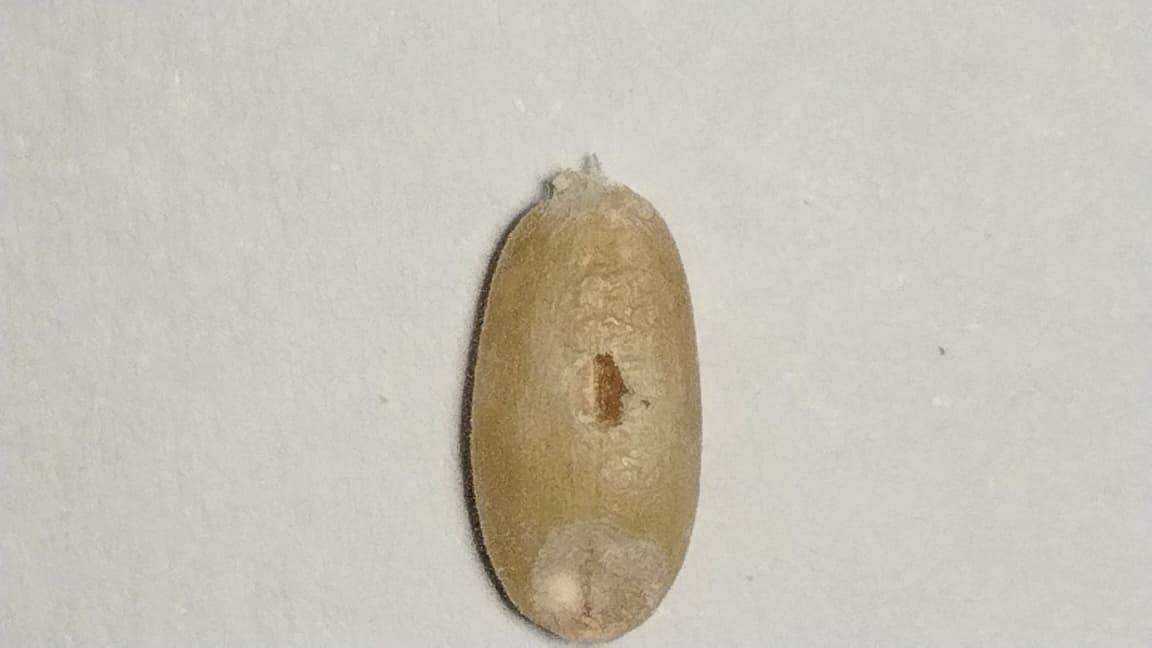damage: (460, 171, 702, 639)
insectdamage: (527, 521, 668, 640), (568, 348, 649, 442)
